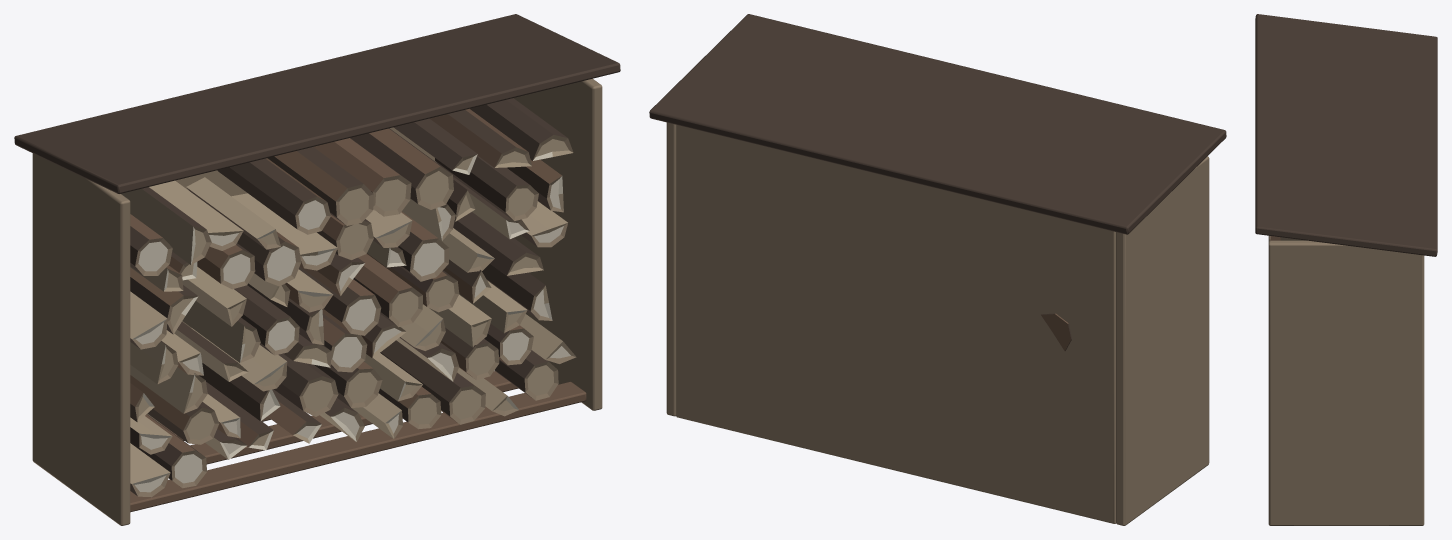
Rendered from firewood.fbx.
3 views of the same model, side by side, from view 1: azimuth 30°, elevation 25°; view 2: azimuth 150°, elevation 25°; view 3: azimuth 270°, elevation 25° (orthographic). The views are drawn at different scales.
Parts seen in each view (by area): view 1: firewood; view 2: firewood; view 3: firewood.
Boxes of the visible parts, box(x1,y1,x2,y2) form: firewood: box(14, 14, 620, 525); firewood: box(649, 14, 1226, 525); firewood: box(1255, 14, 1437, 525).
Size of the model in its own units: 1.46 by 0.5269 by 0.9686.
